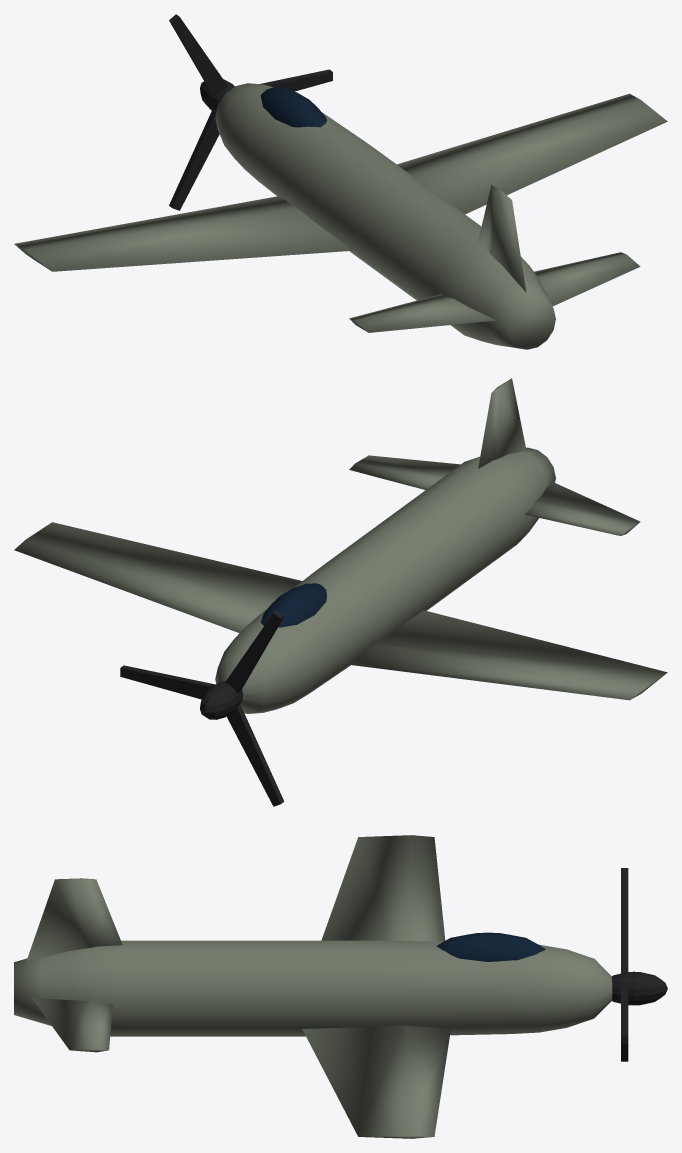
The picture shows the model from 3 angles, top to bottom: view 1: azimuth 30°, elevation 25°; view 2: azimuth 150°, elevation 25°; view 3: azimuth 270°, elevation 25°; orthographic projection.
Visible parts, largest first — view 1: Body, Detail, Canopy; view 2: Body, Detail, Canopy; view 3: Body, Detail, Canopy.
Boxes of the visible parts, x1,y1,x2,y2 form: Body: (14, 83, 667, 349); Detail: (169, 14, 332, 210); Canopy: (260, 87, 326, 127); Body: (14, 378, 667, 713); Detail: (120, 610, 284, 806); Canopy: (260, 583, 326, 627); Body: (14, 835, 612, 1138); Detail: (611, 868, 667, 1061); Canopy: (436, 932, 545, 961).
Size of the model in its own units: 10.5 by 3.37 by 9.68.
